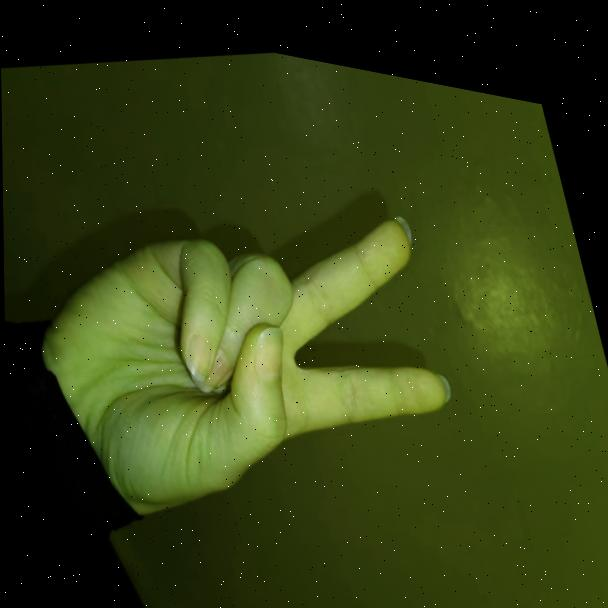two: (30, 131, 476, 555)
